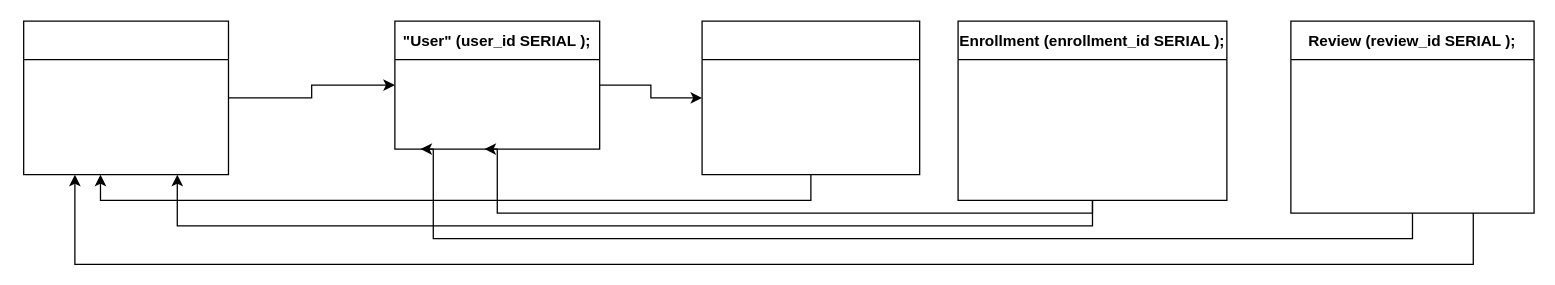
The diagram is 1555 pixels wide and 285 high, and some of its shapes have lost their labels. Each missing label, with the centre of its shape:
Course (course_id SERIAL );: (125,97)
Lesson (lesson_id SERIAL );: (810,97)
